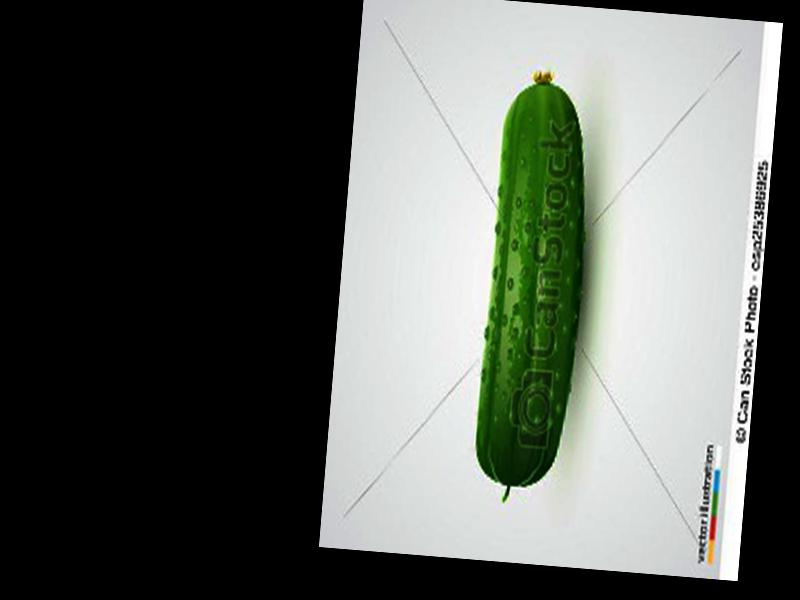Cucumber: (469, 66, 597, 507)
